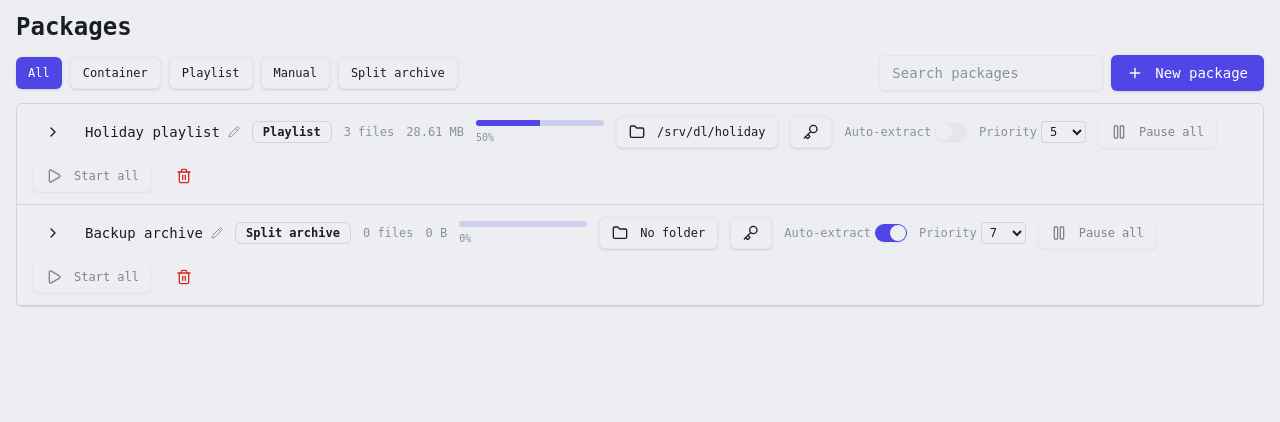
Scenario: PackagesView › expands a package and lists its downloads
Check: the text "Holiday playlist" is shown, box [85,122,220,142]
Click the button with test id "package-row-pkg-1-toggle" at coordinates (53, 132), box [33,116,73,148]
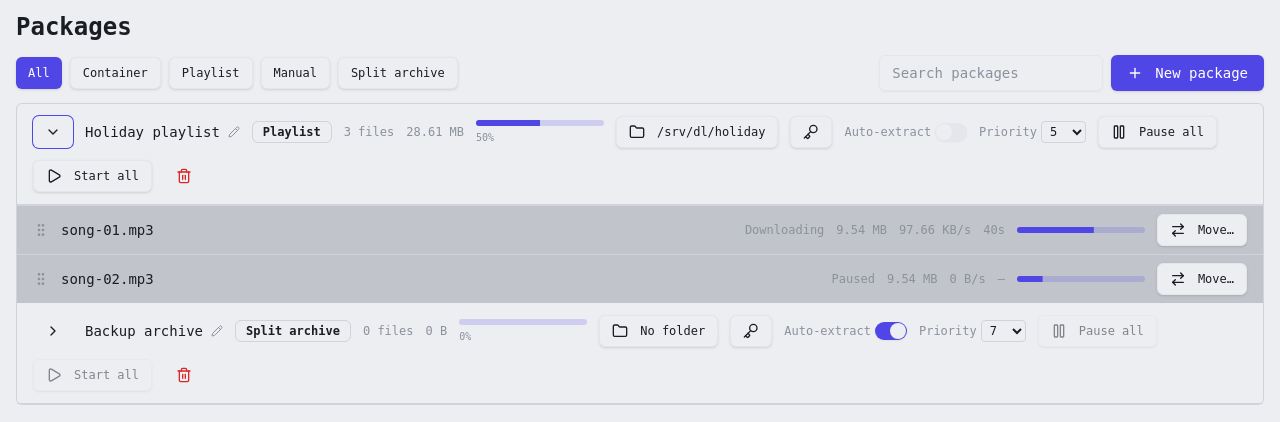
Check: the text "song-01.mp3" is shown, box [61,222,154,238]
Check: the text "song-02.mp3" is shown, box [61,271,154,287]
